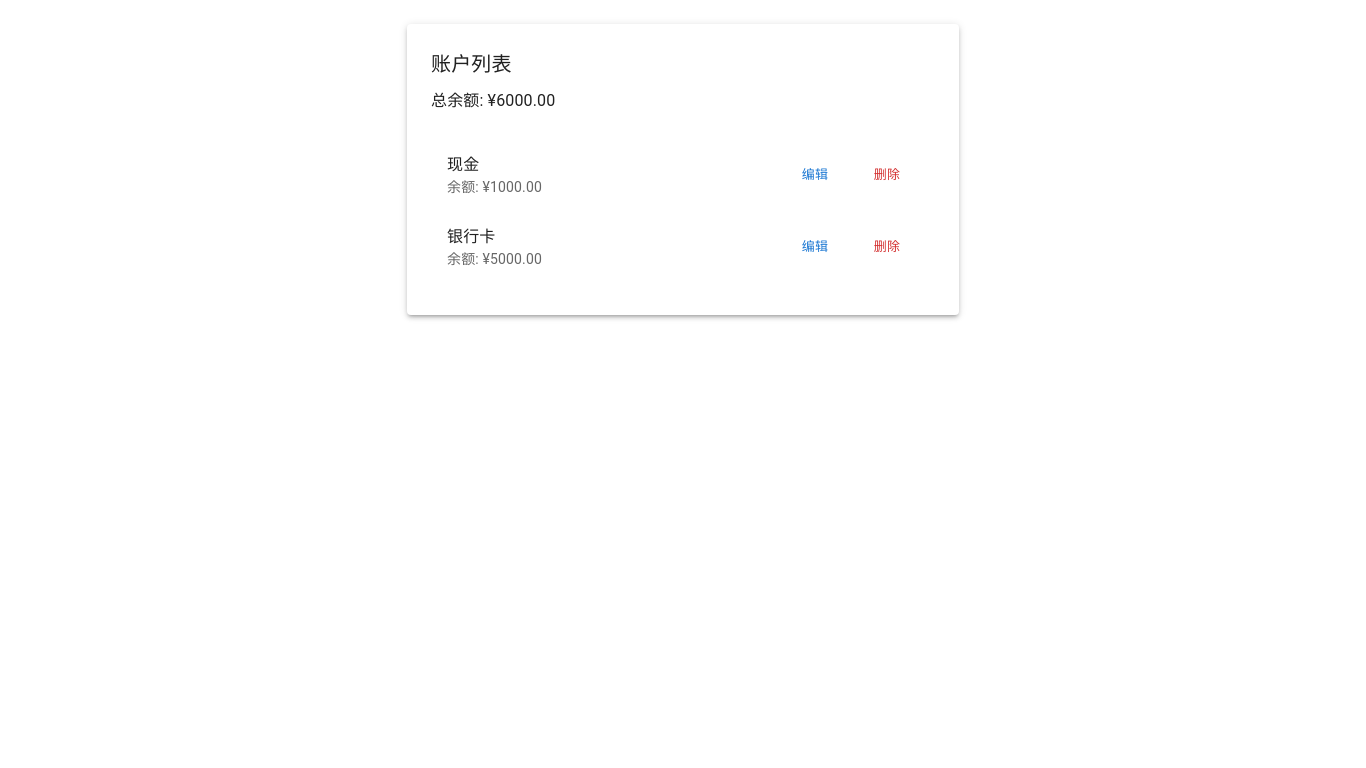
Test: AccountList Component › should edit account when clicking edit button
What coordinates should you click on to do the following:
click the button "编辑" in the row of "现金"
I would click on:
 (815, 175)
Its box is left=783, top=160, right=847, bottom=190.
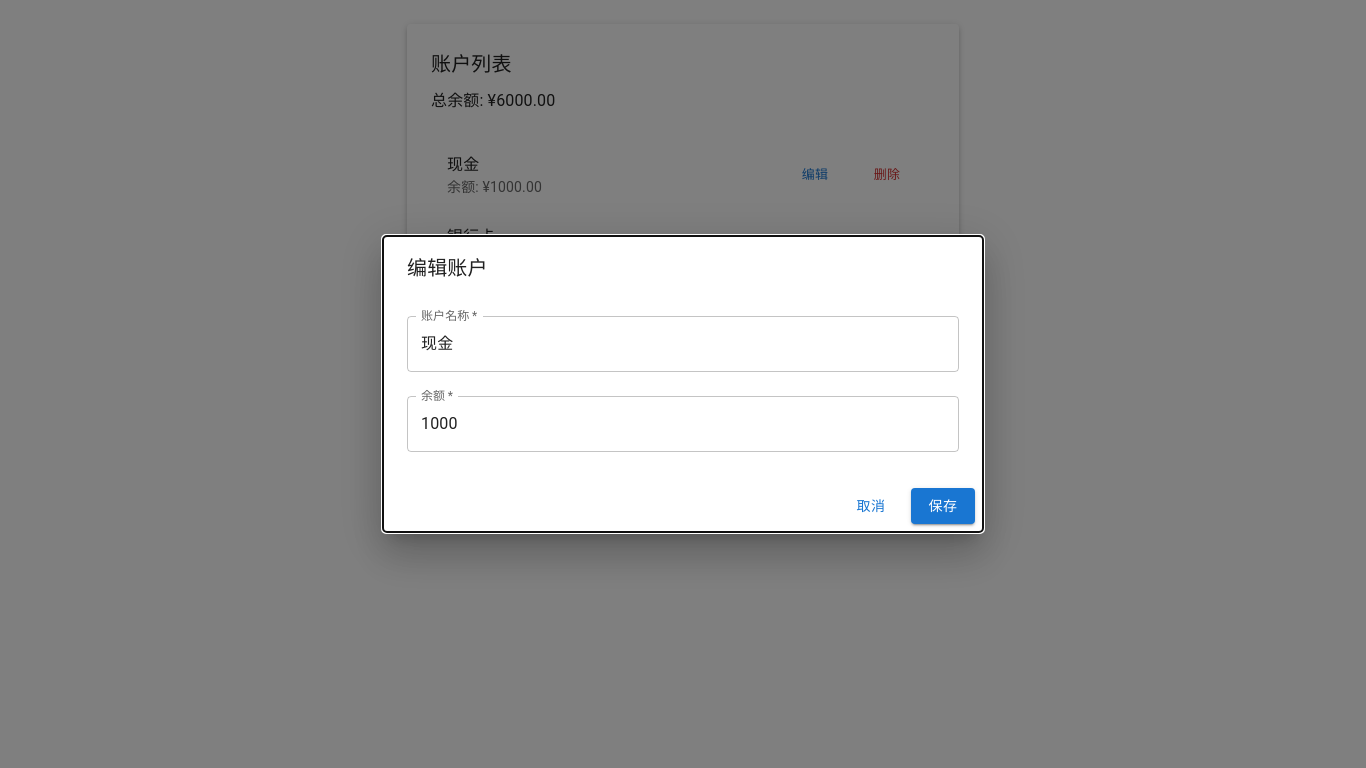
Result: the heading "编辑账户" is shown at left=407, top=256, right=488, bottom=280
